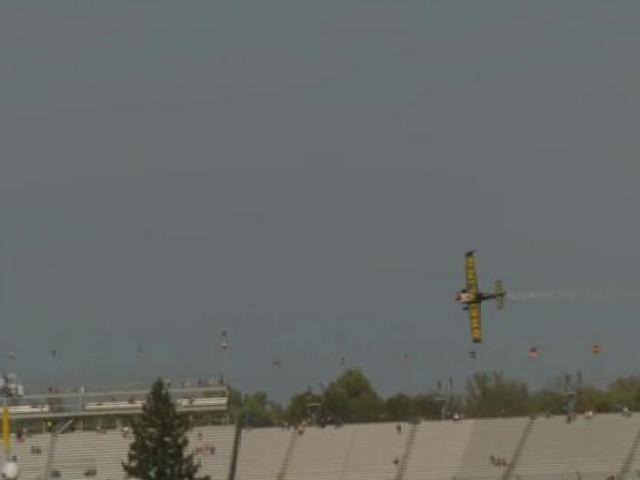uav: (449, 246, 514, 348)
